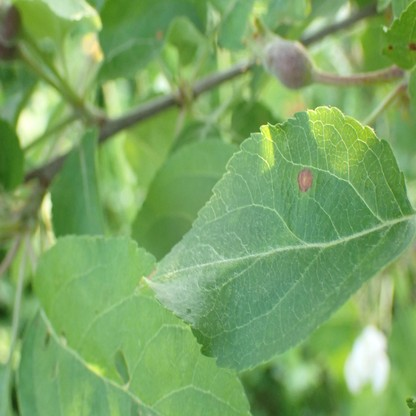frogeye_leaf_spot: (298, 168, 313, 192), (149, 267, 155, 278), (409, 43, 416, 50), (388, 45, 393, 51)
